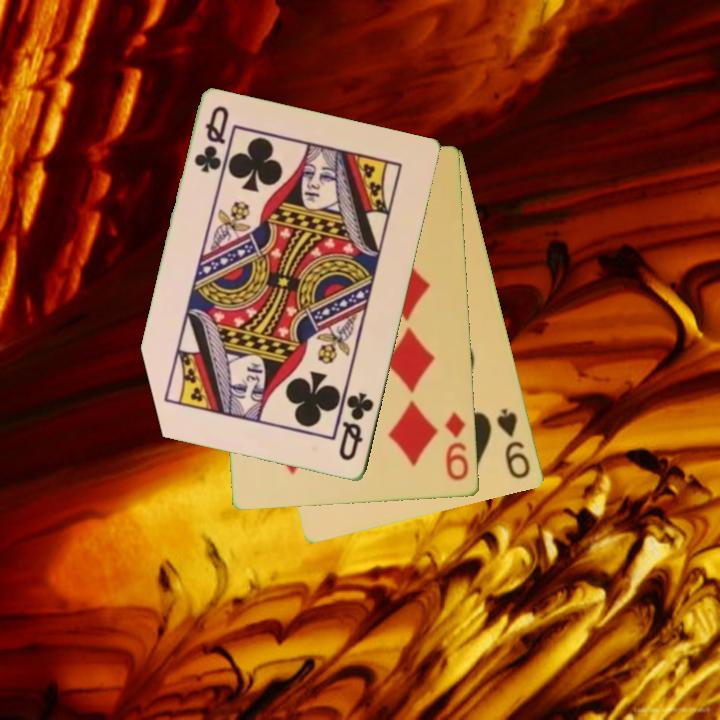9d: (442, 409, 472, 484)
9s: (493, 405, 534, 482)
Qc: (335, 389, 377, 464), (191, 103, 233, 176)
